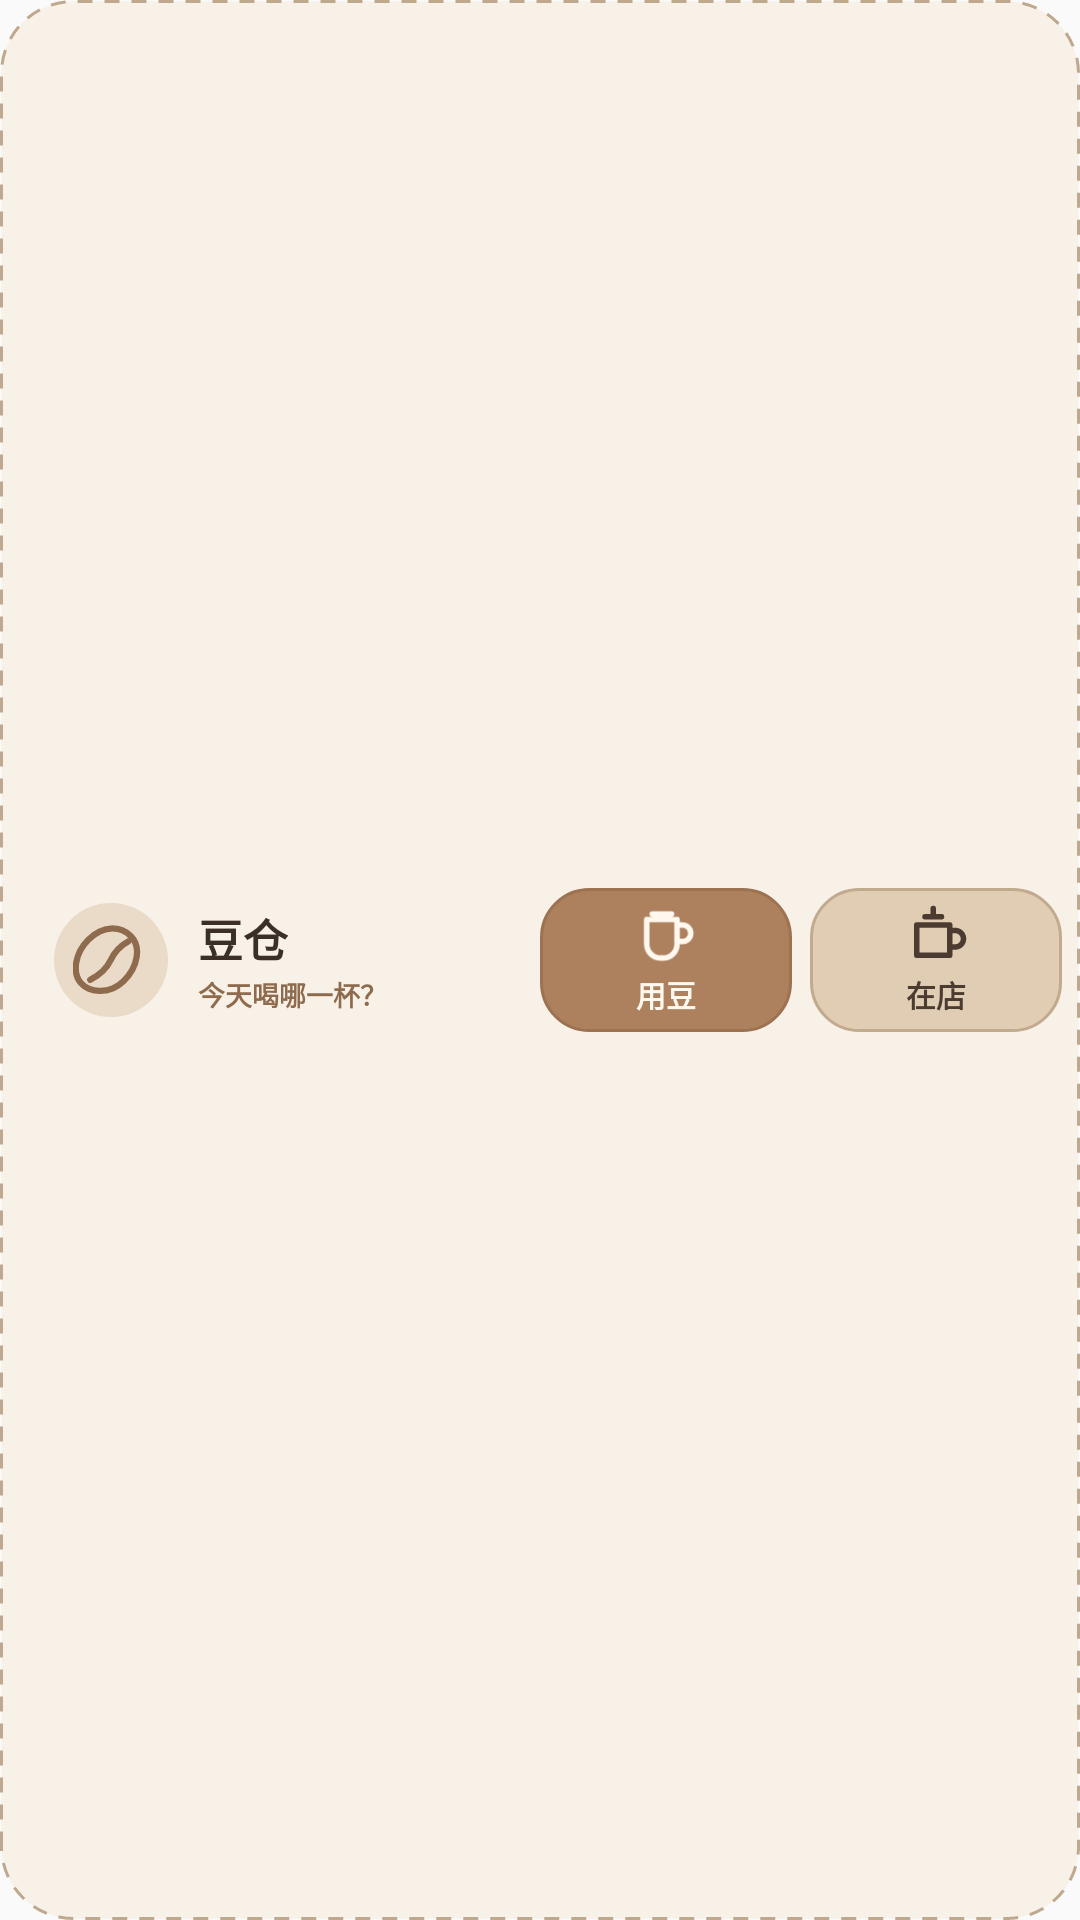

Where to tap for icons on this 1080*1920 app screen, as point (x, y):
widget bean: point (107, 959)
widget cafe: point (940, 931)
widget cup: point (668, 936)
